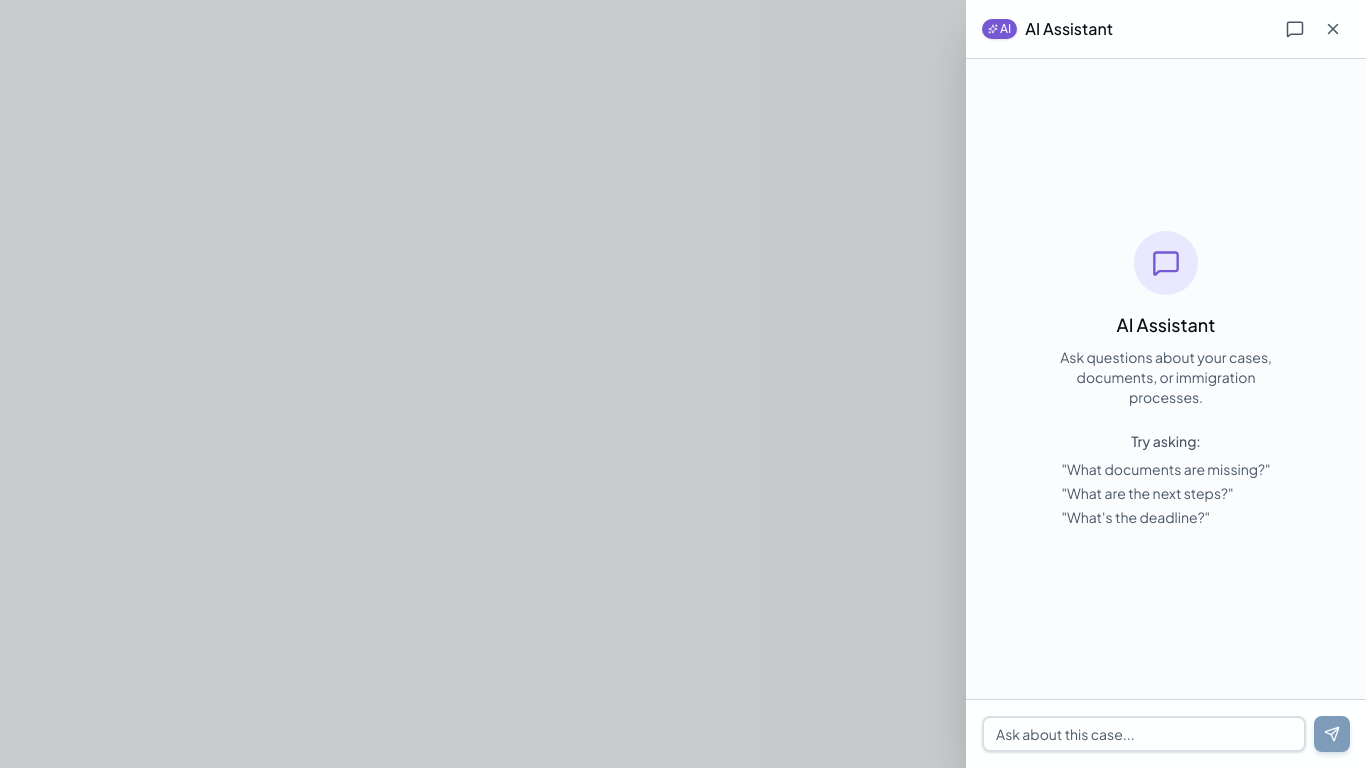
ChatPanel › conversation history › shows loading spinner when conversations are loading
Click the button titled "Conversation history": point(1295, 29) [1278,12,1312,46]
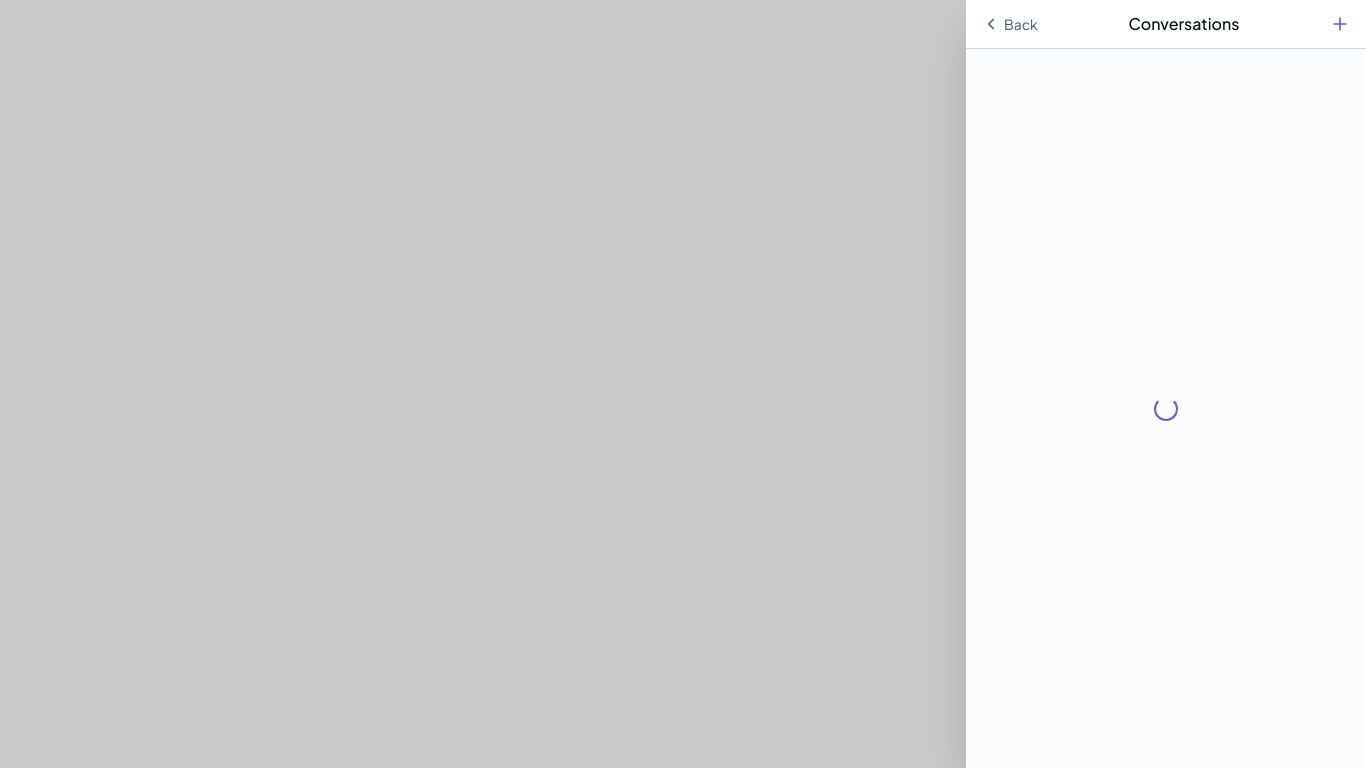
Result: the element with class "animate-spin" is shown at [1154,396,1178,420]
